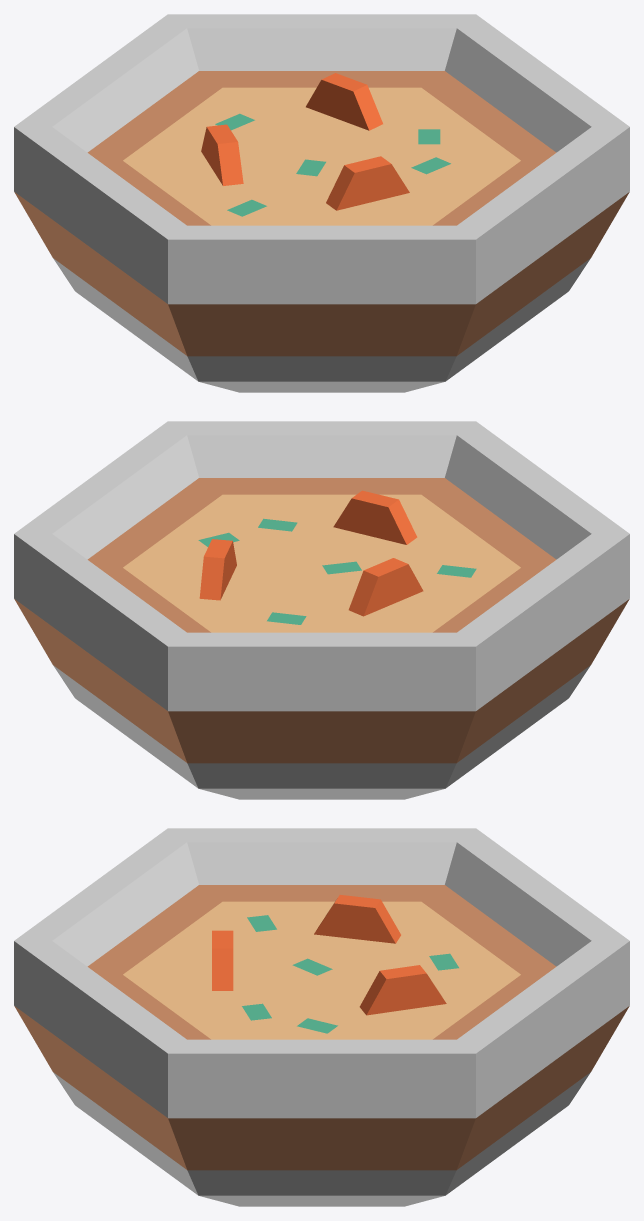
File: bowlSoup.dae
The picture shows the model from 3 angles, top to bottom: view 1: azimuth 30°, elevation 25°; view 2: azimuth 150°, elevation 25°; view 3: azimuth 270°, elevation 25°; orthographic projection.
Visible parts, largest first — view 1: bowlSoup; view 2: bowlSoup; view 3: bowlSoup.
Part boxes in pixels (left/top/right/bottom): bowlSoup: left=14, top=14, right=629, bottom=392; bowlSoup: left=14, top=421, right=629, bottom=799; bowlSoup: left=14, top=828, right=629, bottom=1206.
Bounding box in the file's own units: 0.5022 × 0.2138 × 0.5798.
